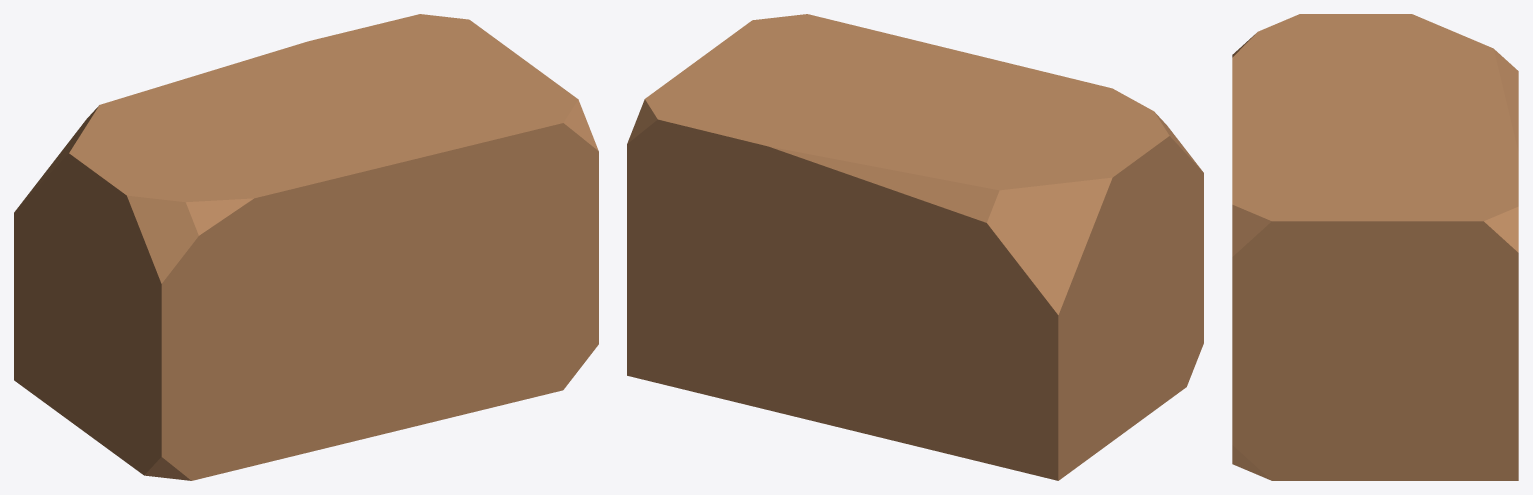
Rendered from Block_01.fbx.
The picture shows the model from 3 angles, left to right: view 1: azimuth 30°, elevation 25°; view 2: azimuth 150°, elevation 25°; view 3: azimuth 270°, elevation 25°; orthographic projection. The views are drawn at different scales.
Visible parts, largest first — view 1: Block_01; view 2: Block_01; view 3: Block_01.
Part boxes in pixels (bbox=[...]): Block_01: bbox=[14, 14, 598, 480]; Block_01: bbox=[627, 14, 1203, 480]; Block_01: bbox=[1232, 14, 1518, 480].
Size of the model in its own units: 31.15 by 18.19 by 18.19.
